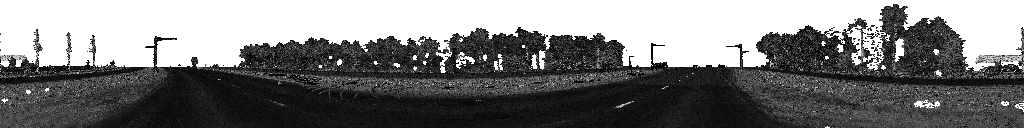light_pole: (145, 36, 176, 74), (726, 44, 746, 68), (650, 43, 664, 67), (629, 56, 633, 65)
traffic_pole: (190, 57, 197, 66)
